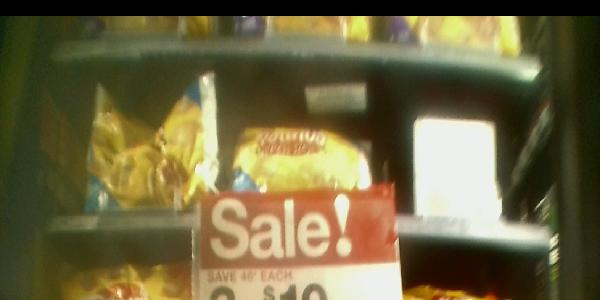icecream: (226, 79, 392, 236), (83, 76, 222, 219)
